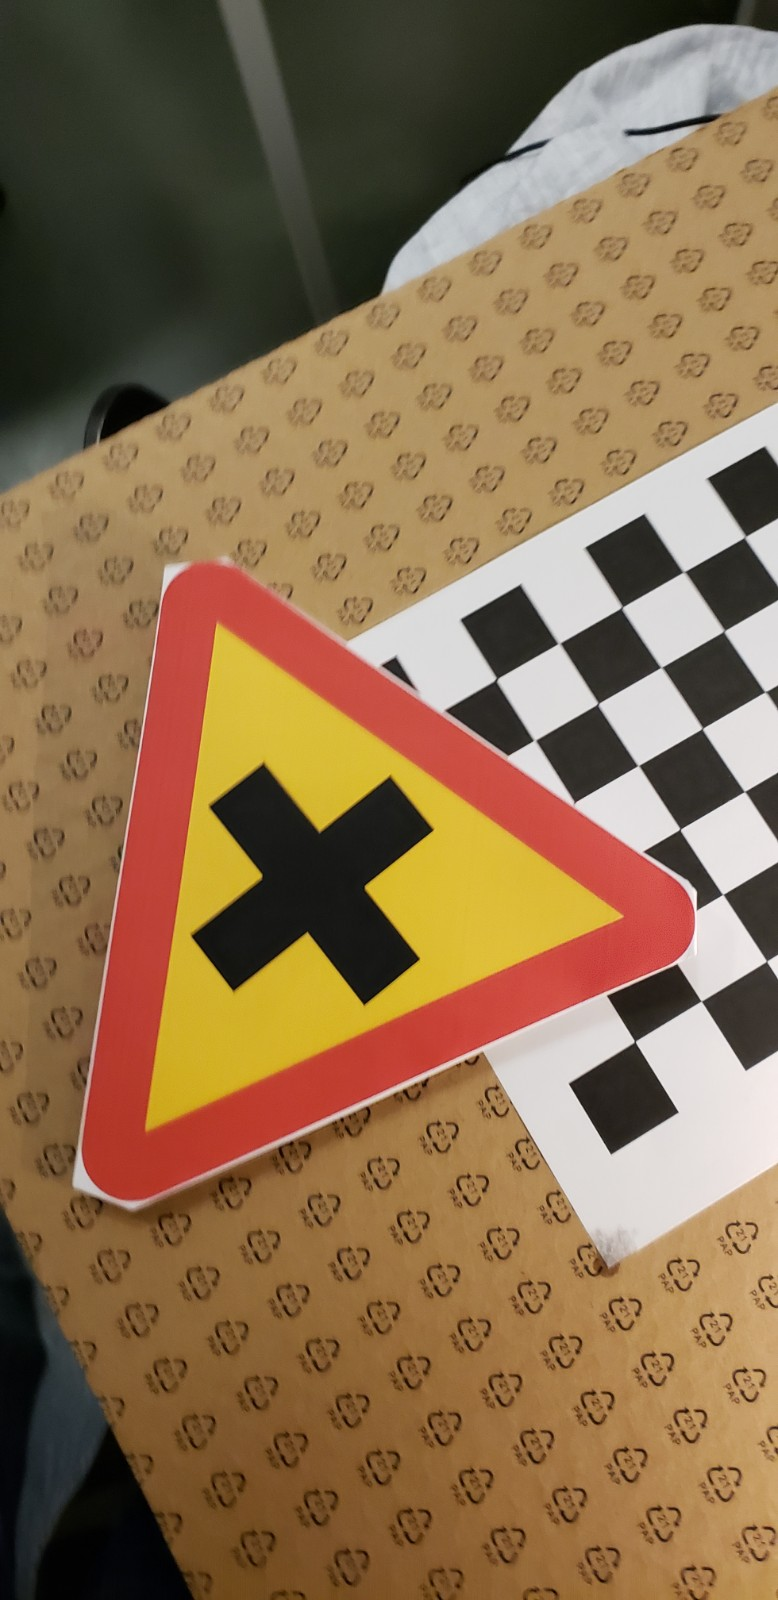junction: (50, 533, 729, 1247)
